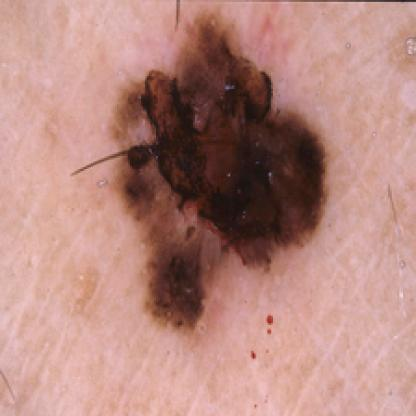Skin_Cancer-Malignant: (108, 13, 331, 337)
